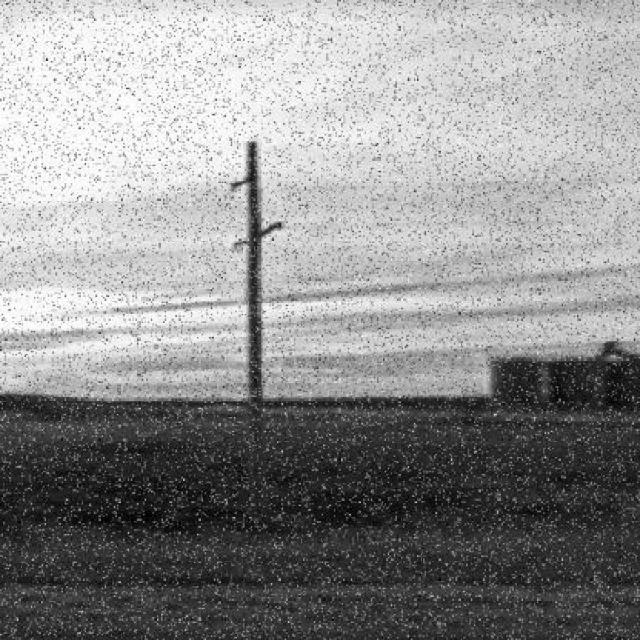pole: (174, 121, 320, 541)
